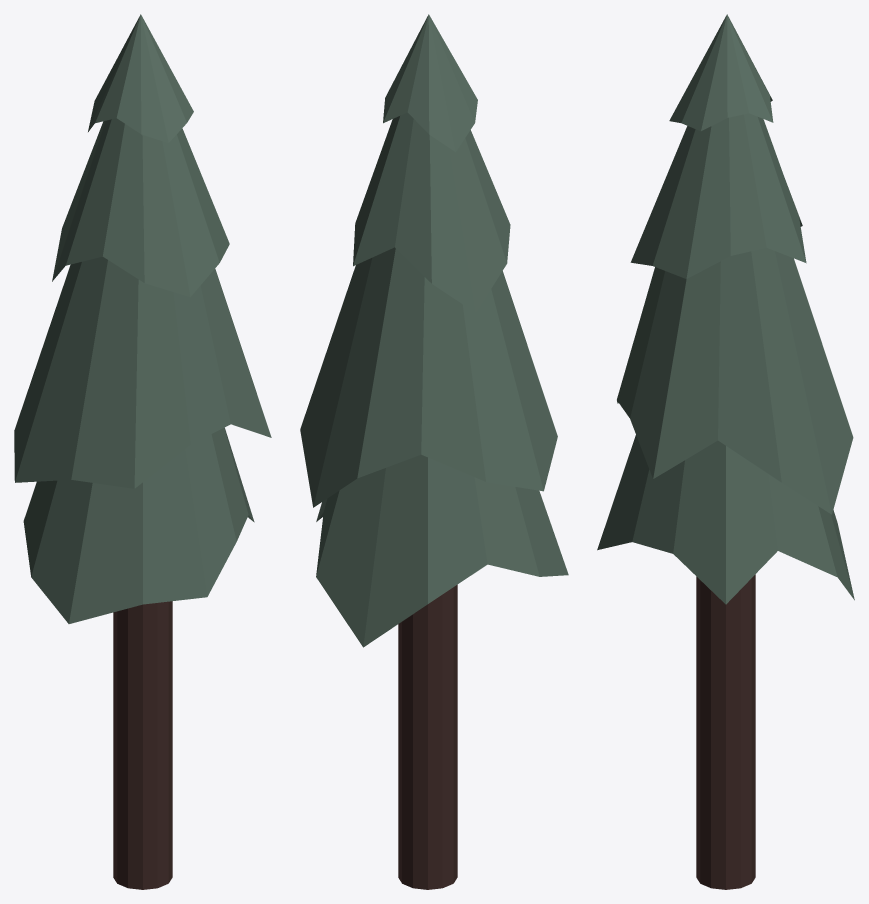
The model's file is Mountain_Tree.fbx.
3 renders of one model, left to right at view 1: azimuth 30°, elevation 25°; view 2: azimuth 150°, elevation 25°; view 3: azimuth 270°, elevation 25°, orthographic.
Visible parts, largest first — view 1: Plane.016; view 2: Plane.016; view 3: Plane.016.
Part boxes in pixels (x1,y1,x2,y2): Plane.016: [14, 14, 271, 889]; Plane.016: [300, 14, 568, 889]; Plane.016: [597, 14, 854, 889].
Bounding box in the file's own units: 332 × 1173 × 318.
